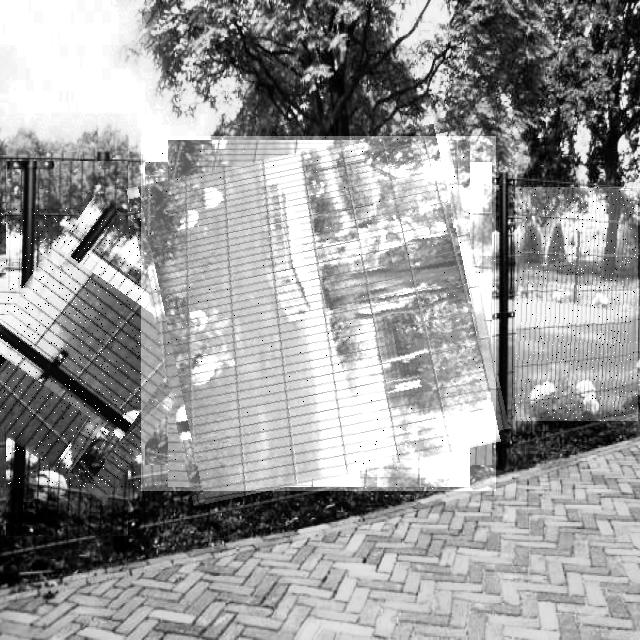fences: (141, 136, 496, 491), (0, 208, 217, 488), (515, 187, 638, 421)
